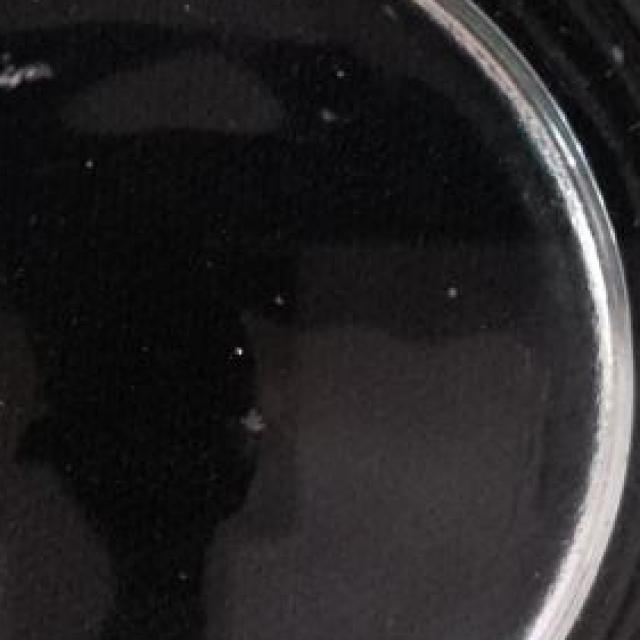Microplastic: (0, 52, 59, 98), (310, 98, 344, 133), (248, 400, 278, 435)
